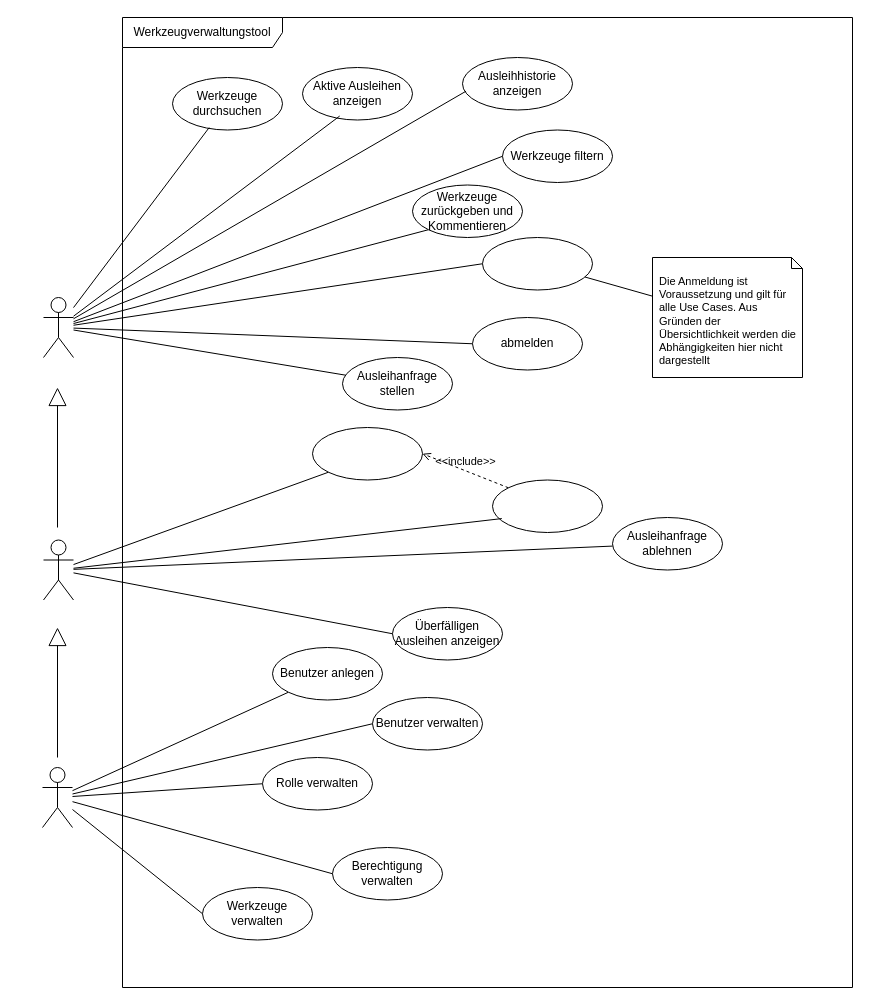
Image size: 870x1005. Some labels were removed from this diagram. Here are the shapes that lost their labels. From the top down, the centre of each, then its label:
At pixel 537 263: "anmelden".
At pixel 58 327: "Mitarbeiter".
At pixel 367 453: "Werkzeug buchen".
At pixel 547 505: "Ausleihanfrage genehmigen".
At pixel 58 569: "Abteilungsleiter".
At pixel 57 797: "Admin".
